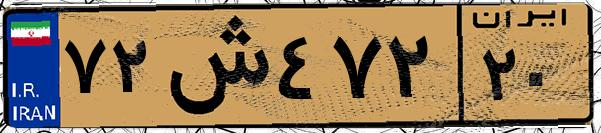0: (525, 38, 570, 115)
2: (385, 28, 445, 110), (475, 38, 525, 113), (110, 28, 158, 98)
4: (270, 28, 330, 110)
7: (330, 28, 385, 110), (57, 26, 110, 100)
ش: (158, 12, 270, 120)
